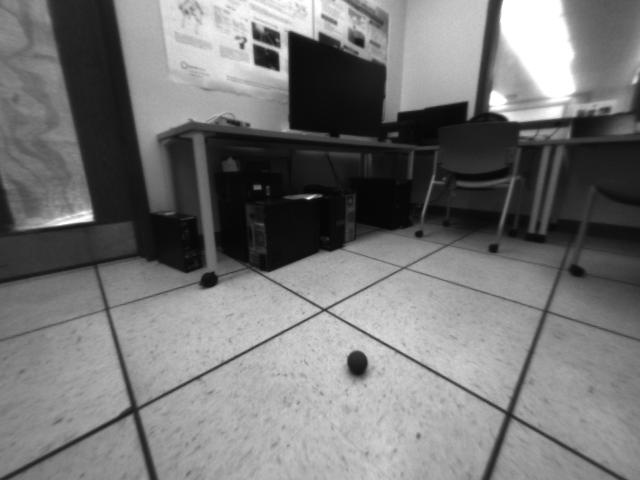dogtoy: (339, 344, 378, 380)
